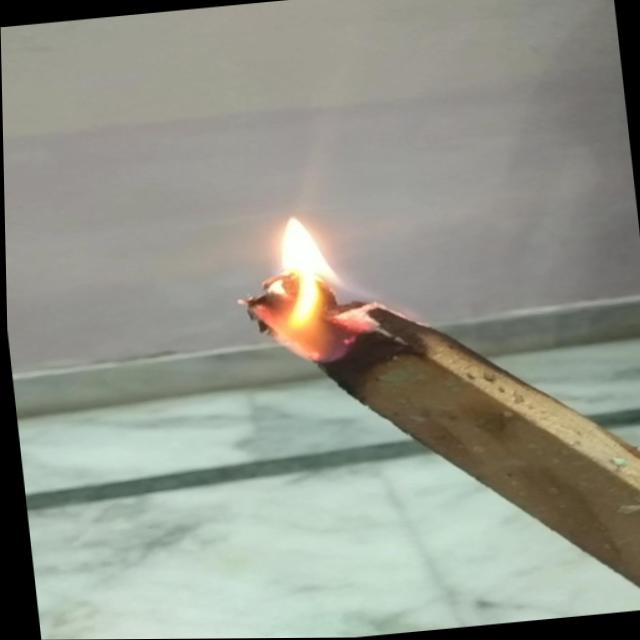fire: (224, 209, 383, 368)
